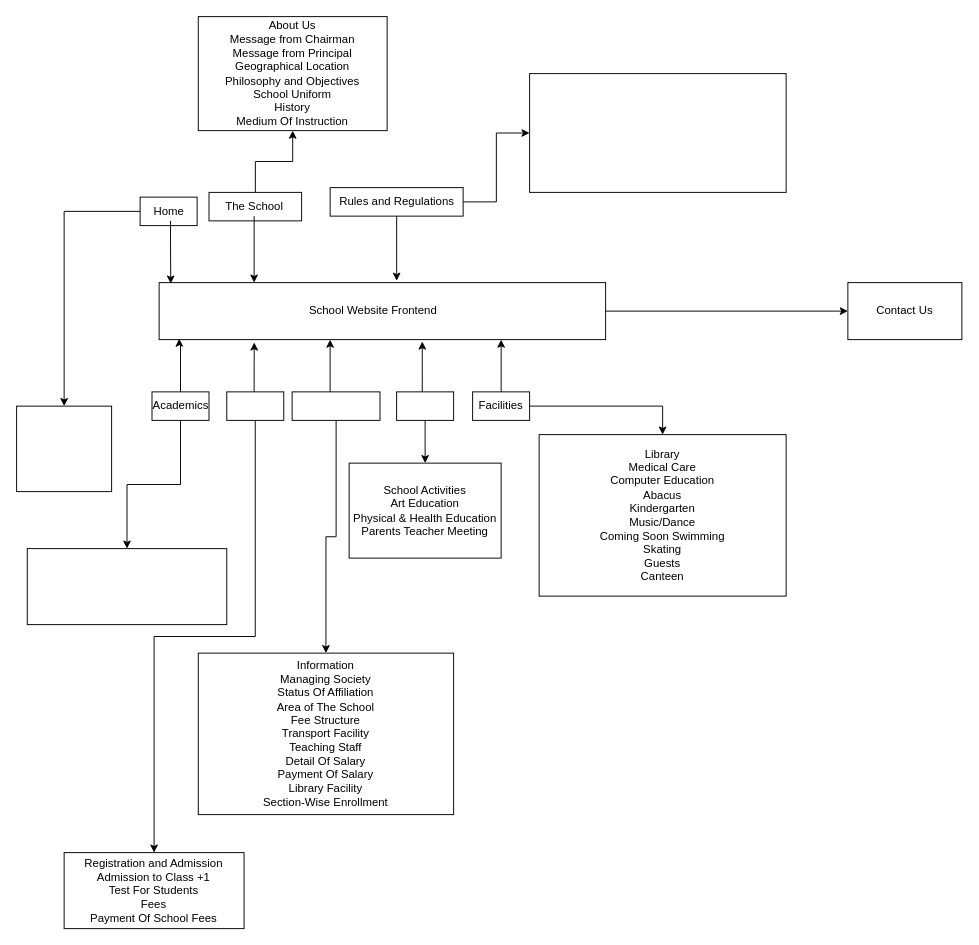
This 979x945 diagram has some shape labels left out. The box of each missing label's shape, as (x1, y1, x2, y2) in pixels:
Activities: (396, 391, 454, 420)
Admission: (226, 391, 284, 420)
Affiliation Examinations Withdrawals Remedial Awards: (26, 548, 227, 625)
School Info: (291, 391, 380, 420)
Slider About Section Latest News Time Table: (16, 405, 112, 492)
Visits School Rules Leave Regulations Serious Offences: (529, 73, 786, 192)
